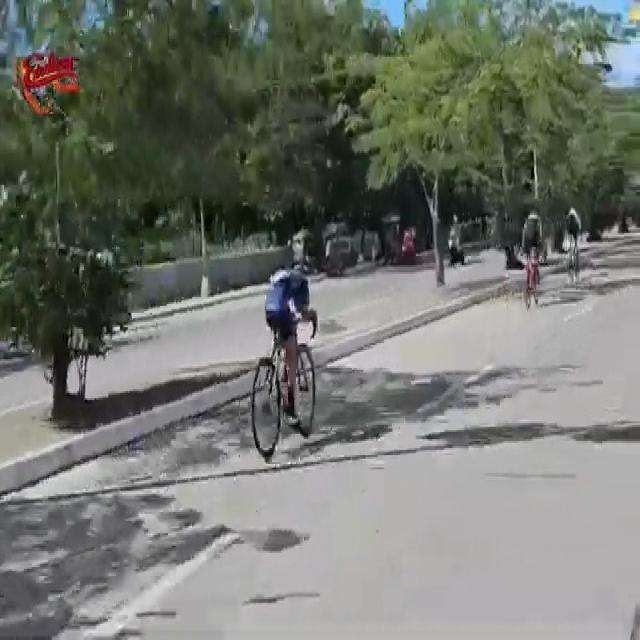bike: (251, 256, 320, 467), (517, 200, 542, 306), (567, 204, 584, 290)
motorcycle: (448, 215, 464, 268)
